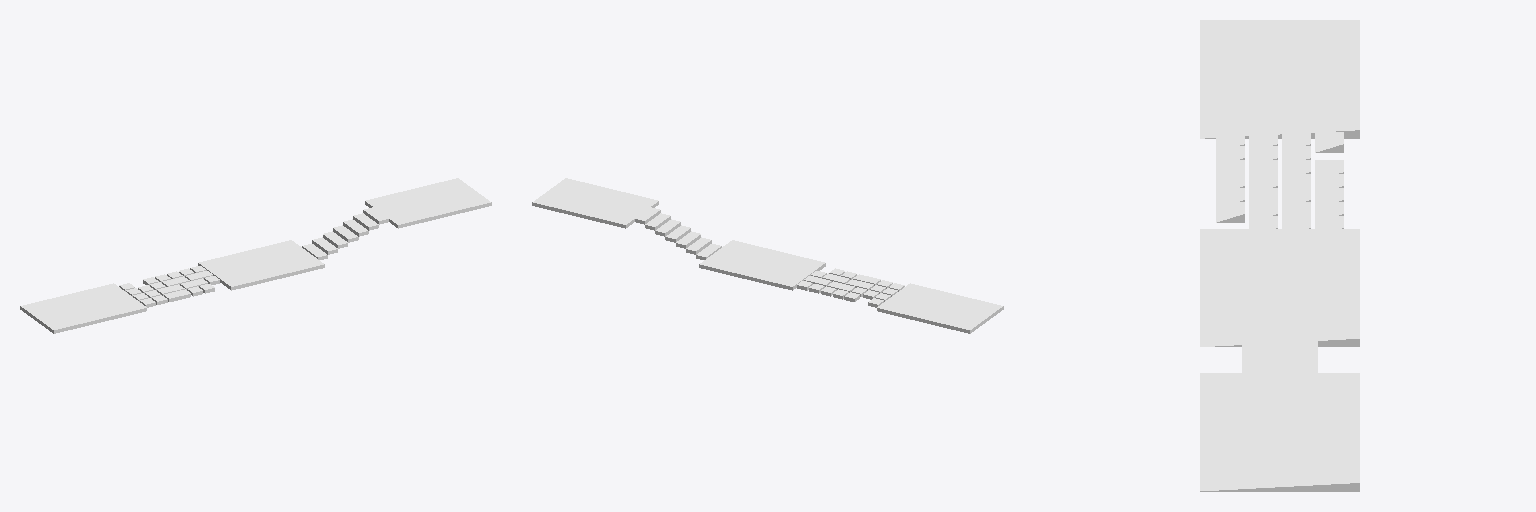
robot.urdf — rubbles_stairs_3:
<robot name="rubbles_stairs_3">
  <link name="base_link">
    <visual>
      <origin xyz="0 0 0" rpy="0 0 0" />
      <geometry>
        <mesh filename="package://hpp_environments/meshes/multicontact/rubbles_stairs_3.stl"/>
      </geometry>
      <material name="white">
        <color rgba="1 1 1 1"/>
      </material>
    </visual>
    <collision>
      <origin xyz="0 0 0" rpy="0 0 0" />
      <geometry>
        <mesh filename="package://hpp_environments/meshes/multicontact/rubbles_stairs_3.stl"/>
      </geometry>
    </collision>
  </link>
</robot>

--- Render facts (derived) ---
3 views of the same robot in one strip: view 1: azimuth 30°, elevation 25°; view 2: azimuth 150°, elevation 25°; view 3: azimuth 270°, elevation 25° (orthographic).
Robot: rubbles_stairs_3 — 1 links, 0 joints (none); root link base_link; default pose: all joints at 0.
Visible links, largest first — view 1: base_link; view 2: base_link; view 3: base_link.
Boxes of the visible links, x1=… form: base_link: x1=20, y1=178, x2=491, y2=333; base_link: x1=532, y1=178, x2=1003, y2=333; base_link: x1=1200, y1=20, x2=1359, y2=491.
Bounding box of the posed robot: 12.88 × 1.7 × 0.7 m (x, y, z).
Meshes: 1 distinct files referenced, 1 mesh visuals loaded (1 binary STL).
